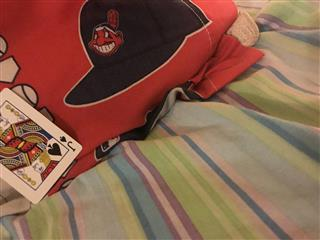JackOfSpades: (1, 86, 83, 203)
